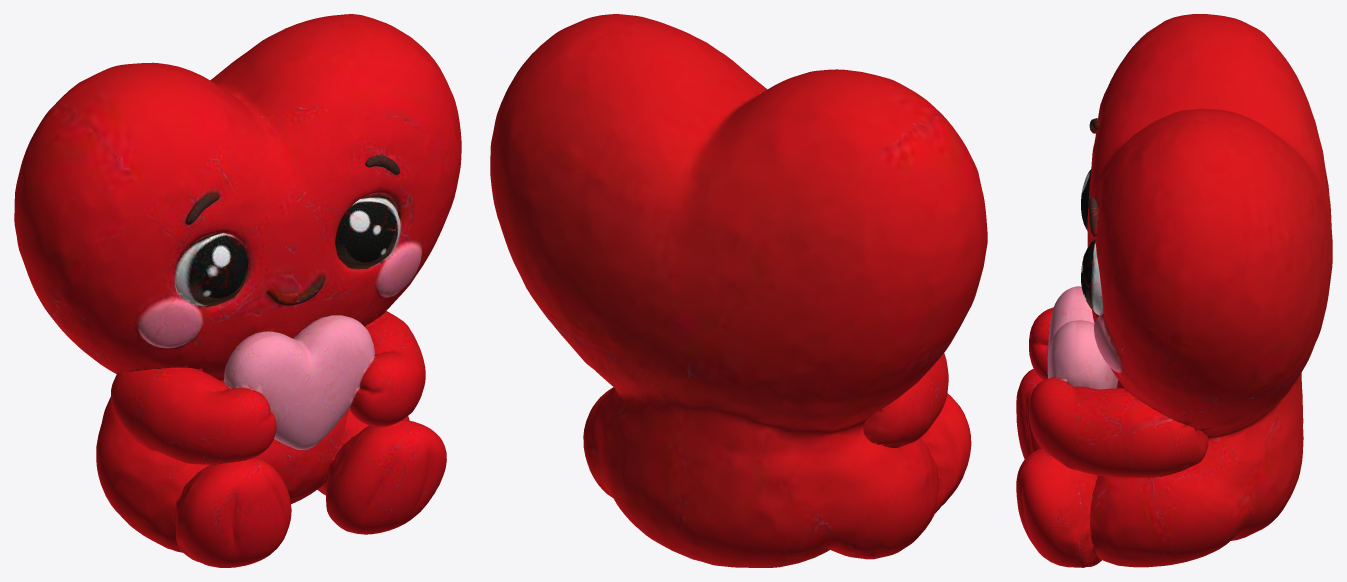
The picture shows the model from 3 angles, left to right: view 1: azimuth 30°, elevation 25°; view 2: azimuth 150°, elevation 25°; view 3: azimuth 270°, elevation 25°; orthographic projection. The views are drawn at different scales.
Size of the model in its own units: 1.86 by 1.9 by 1.21.
Materials: 1 (1 with a texture image).
